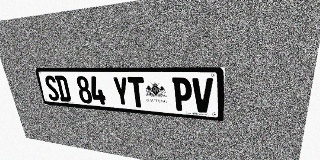4: (88, 76, 106, 105)
8: (75, 76, 93, 104)
D: (54, 76, 72, 102)
P: (172, 77, 192, 112)
S: (43, 75, 60, 101)
T: (127, 77, 146, 108)
V: (192, 78, 213, 113)
Y: (112, 76, 131, 107)
